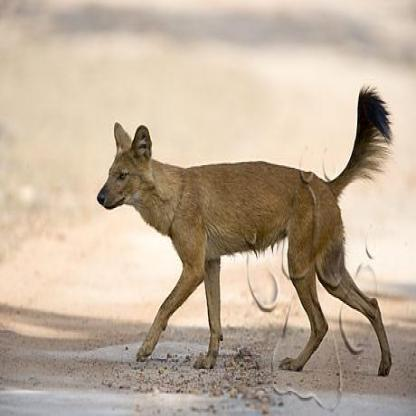dhole: (96, 83, 391, 373)
